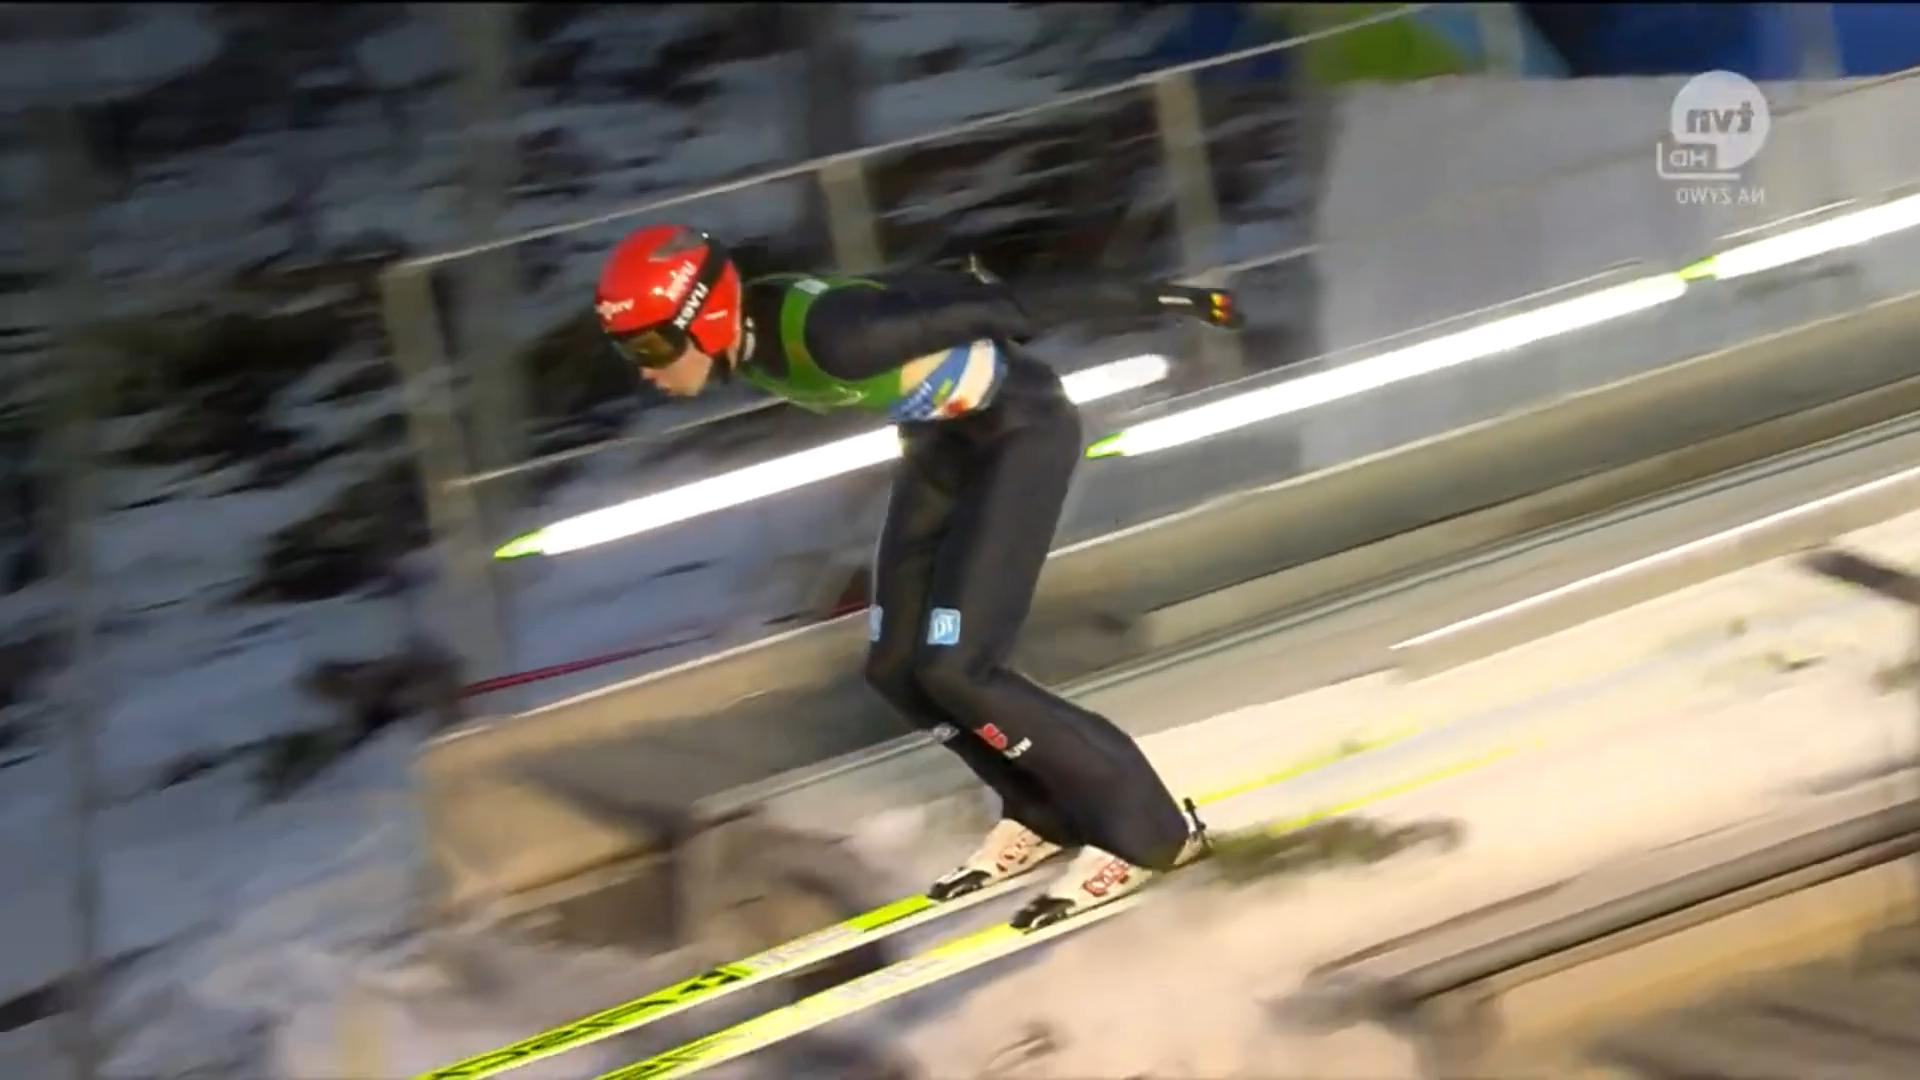prog: (506, 758, 861, 893)
